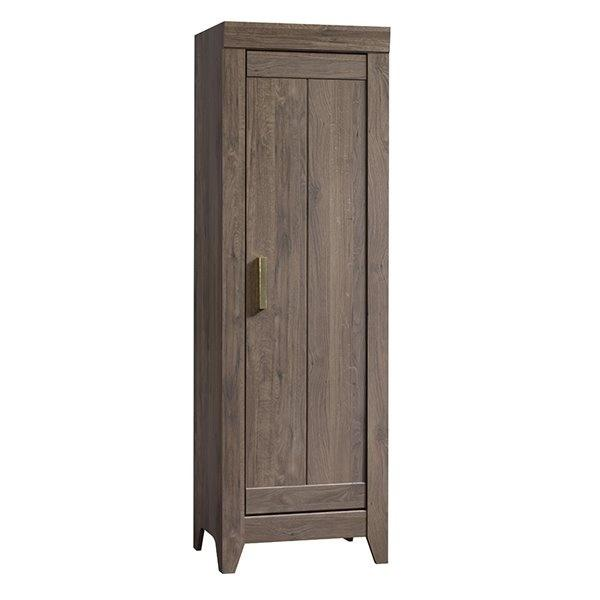cabinet_door: (244, 57, 367, 503)
handle: (253, 253, 268, 315)
